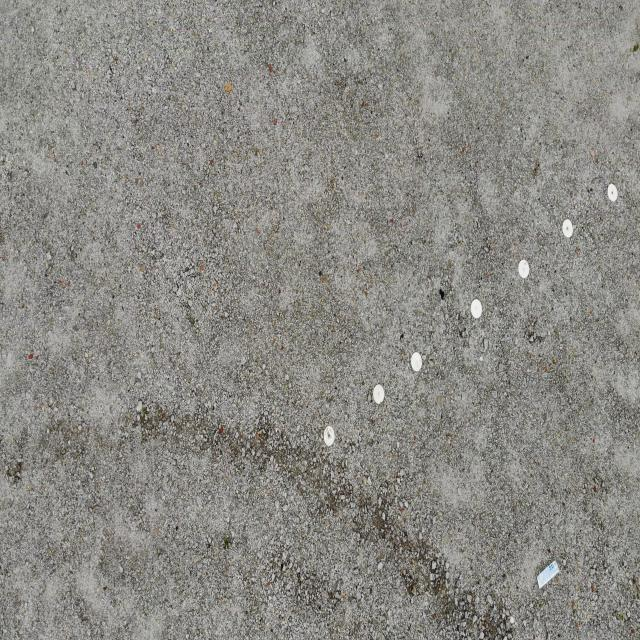rubbish: (534, 558, 560, 589)
